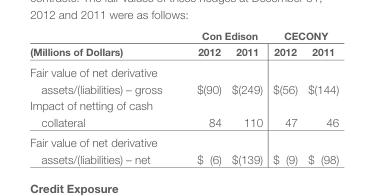table: (29, 28, 338, 165)
table column: (29, 28, 178, 165), (178, 28, 225, 165), (225, 28, 267, 165), (302, 28, 338, 165), (267, 28, 302, 165)
table column header: (29, 28, 338, 61)
table row: (29, 61, 338, 96), (29, 96, 338, 131), (29, 131, 338, 165), (29, 43, 338, 61), (29, 28, 338, 43)
table spanning cell: (29, 28, 178, 61), (178, 28, 267, 43), (267, 28, 338, 43)
